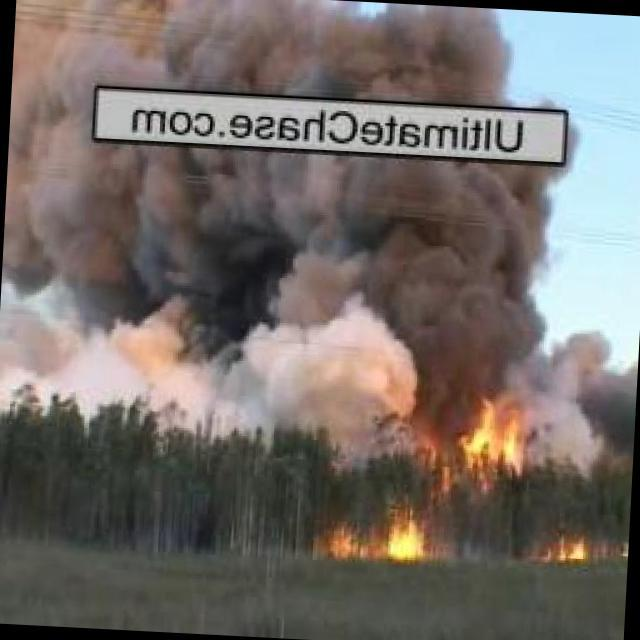Fire: (453, 382, 535, 487), (381, 508, 421, 562), (556, 529, 594, 567), (327, 526, 355, 558)
